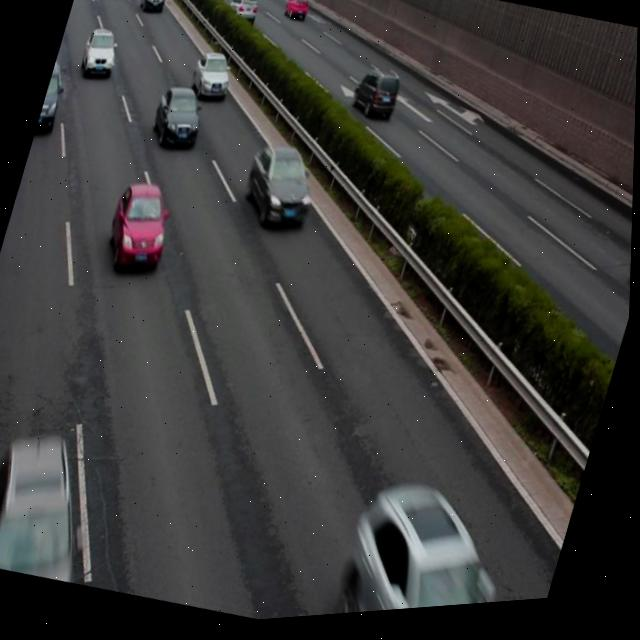car: (333, 474, 534, 620), (0, 424, 107, 587), (236, 140, 325, 240), (102, 178, 182, 280), (147, 83, 210, 157), (349, 66, 403, 128), (187, 49, 236, 106), (79, 24, 122, 80), (36, 65, 70, 134), (226, 0, 261, 28), (283, 0, 312, 25), (137, 0, 168, 16)
